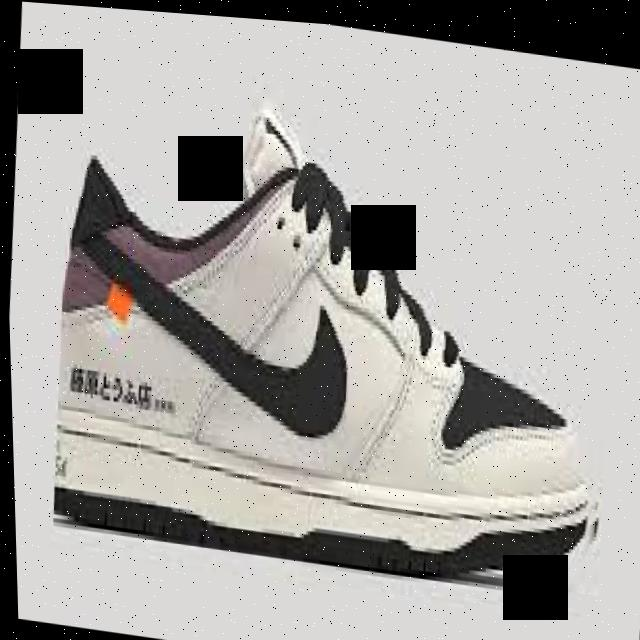shoe: (38, 73, 631, 604)
